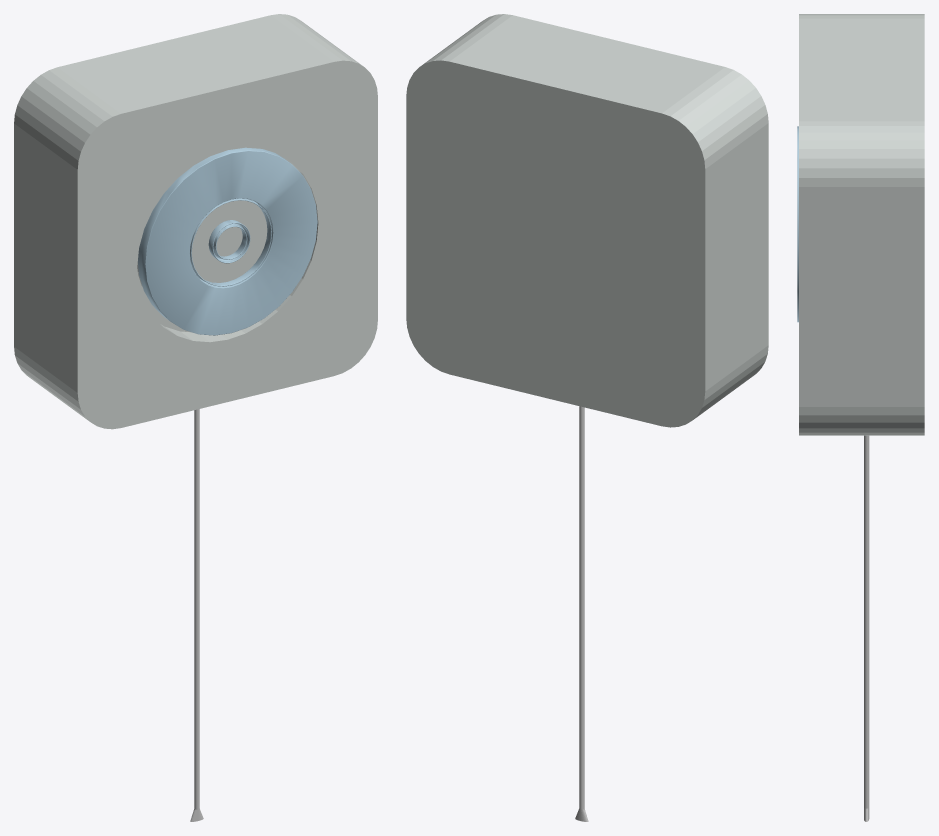
The model's file is cdplayer.glb.
The picture shows the model from 3 angles, left to right: view 1: azimuth 30°, elevation 25°; view 2: azimuth 150°, elevation 25°; view 3: azimuth 270°, elevation 25°; orthographic projection.
Visible parts, largest first — view 1: Cube.101, Circle.010, Cylinder.003; view 2: Cube.101, Cylinder.003; view 3: Cube.101, Cylinder.003, Circle.010.
Boxes of the visible parts, left/top/right/bottom form: Cube.101: left=14, top=14, right=377, bottom=429; Circle.010: left=137, top=147, right=317, bottom=335; Cylinder.003: left=190, top=409, right=203, bottom=821; Cube.101: left=406, top=14, right=768, bottom=427; Cylinder.003: left=575, top=406, right=588, bottom=821; Cube.101: left=799, top=14, right=924, bottom=435; Cylinder.003: left=864, top=435, right=869, bottom=821; Circle.010: left=797, top=126, right=798, bottom=322.
Bounding box in the file's own units: 0.404 × 0.9748 × 0.1508.
